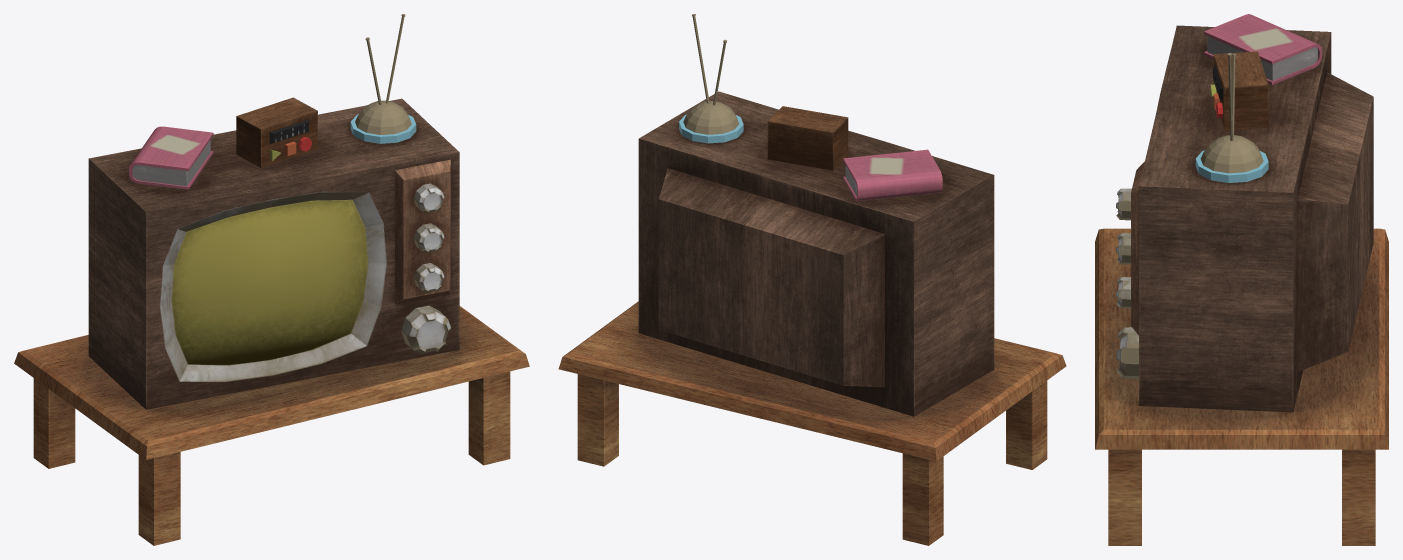
The picture shows the model from 3 angles, left to right: view 1: azimuth 30°, elevation 25°; view 2: azimuth 150°, elevation 25°; view 3: azimuth 270°, elevation 25°; orthographic projection. The views are drawn at different scales.
Parts seen in each view (by area): view 1: polySurface25, pCube5, polySurface19, polySurface30, polySurface28, polySurface35, polySurface33, polySurface34, polySurface29; view 2: polySurface25, pCube5, polySurface19, polySurface30, polySurface28; view 3: polySurface25, pCube5, polySurface30, polySurface19, polySurface28, polySurface35, polySurface34, polySurface33, polySurface29.
Part boxes in pixels (<box>): polySurface25: <box>88,98,459,409</box>; pCube5: <box>14,306,529,545</box>; polySurface19: <box>236,97,317,167</box>; polySurface30: <box>129,126,213,189</box>; polySurface28: <box>350,100,416,143</box>; polySurface35: <box>401,305,450,354</box>; polySurface33: <box>414,223,444,253</box>; polySurface34: <box>414,183,444,213</box>; polySurface29: <box>414,263,444,293</box>; polySurface25: <box>638,91,994,416</box>; pCube5: <box>558,301,1066,545</box>; polySurface19: <box>767,106,848,170</box>; polySurface30: <box>843,149,942,201</box>; polySurface28: <box>679,101,743,143</box>; polySurface25: <box>1131,25,1373,412</box>; pCube5: <box>1095,228,1388,545</box>; polySurface30: <box>1204,14,1322,84</box>; polySurface19: <box>1210,51,1268,130</box>; polySurface28: <box>1195,135,1268,182</box>; polySurface35: <box>1116,327,1138,379</box>; polySurface34: <box>1116,188,1131,220</box>; polySurface33: <box>1116,232,1130,264</box>; polySurface29: <box>1116,276,1130,308</box>.
Size of the model in its own units: 14.96 by 15.55 by 8.92.
1 material, 1 textured.
